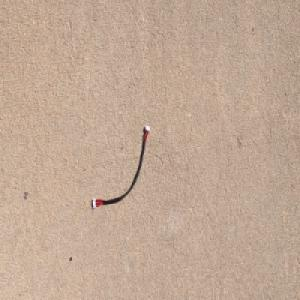Wire: (91, 123, 150, 210)
